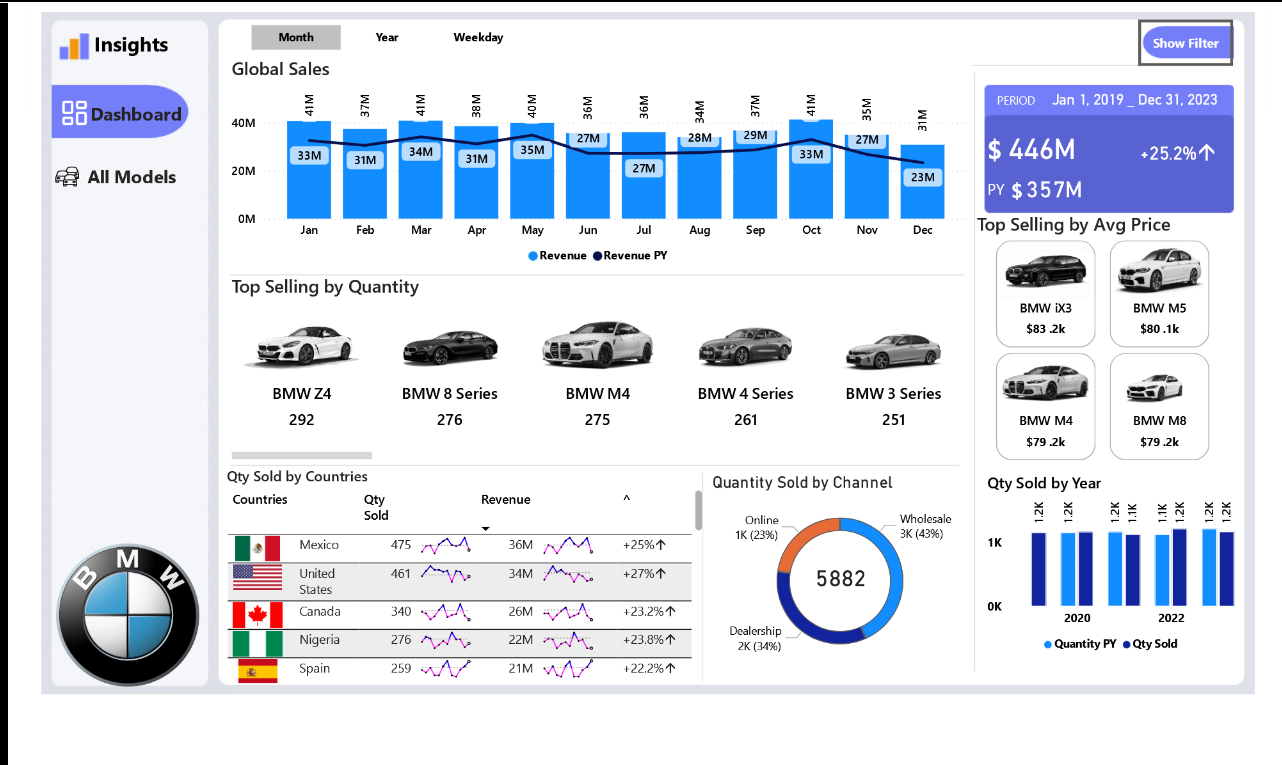

The dashboard page shown, as its layout file describes it:
{"tool":"powerbi","page":{"name":"Dashboard","canvas":[1300,834],"ordinal":0},"visuals":[{"type":"lineClusteredColumnComboChart","title":"Global Sales","fields":{"Category":["Calender.Month"],"Y":["All Measures.Revenue"],"Y2":["All Measures.Revenue PY"]},"box":[205.6,102.1,786.5,229.1],"z":0},{"type":"slicer","fields":{"Values":["preiod.preiod"]},"box":[205.6,62.1,336.7,40],"z":1000},{"type":"cardVisual","fields":{"Data":["All Measures.Revenue"]},"box":[1012.8,157.3,110.4,66.2],"z":2000},{"type":"card","fields":{"Values":["All Measures.Revenue PY"]},"box":[1041.8,216.6,74.5,49.7],"z":3000},{"type":"card","fields":{"Values":["All Measures.Revenue % with Arrow"]},"box":[1163.3,167,91.1,74.5],"z":4000},{"type":"card","fields":{"Values":["All Measures.Selected Period"]},"box":[1051.5,128.3,224.9,40],"z":5000},{"type":"textbox","box":[1012.8,133.9,77.3,34.5],"z":6000},{"type":"advancedSlicerVisual","title":"Top Selling by Quantity ","fields":{"Values":["dimModel.Model"]},"box":[205.6,331.2,786.5,202.8],"z":7000},{"type":"advancedSlicerVisual","title":"Top Selling by Avg Price","fields":{"Values":["dimModel.Model"]},"box":[992.1,266.3,274.6,267.7],"z":8000},{"type":"textbox","box":[1003.2,226.3,38.6,40],"z":9000},{"type":"clusteredColumnChart","title":"Qty Sold by Year","fields":{"Category":["Calender.Year"],"Y":["All Measures.Quantity PY","All Measures.Quantity"]},"box":[1002.6,540.8,273.7,200],"z":10000},{"type":"donutChart","title":"Quantity Sold by Channel","fields":{"Category":["dimChannel.Channel"],"Y":["All Measures.Quantity"]},"box":[713.4,540.9,278.7,209.7],"z":11000},{"type":"card","fields":{"Values":["All Measures.Quantity"]},"box":[772.7,594.7,160.1,113.2],"z":12000},{"type":"tableEx","title":"Qty Sold by Countries","fields":{"Values":["dimCountry.Countries with Flags URL.Flag","dimCountry.Country","All Measures.Quantity","All Measures.Quantity Sparkline","All Measures.Revenue","All Measures.Revenue Sparkline","All Measures.Growth % with Arrow"]},"box":[201.3,534.2,511.8,234.2],"z":13000},{"type":"image","box":[0,610.5,202,161],"z":14000},{"type":"textbox","box":[56.6,144.7,117.1,46.1],"z":15000},{"type":"image","box":[23.7,140.8,42.1,40.8],"z":16000},{"type":"actionButton","box":[15.8,140.8,148.7,50],"z":17000},{"type":"image","box":[15.8,210.5,42.1,35.5],"z":18000},{"type":"textbox","box":[53.9,210.5,122.4,36.8],"z":19000},{"type":"actionButton","box":[0,207.9,176.3,57.9],"z":20000},{"type":"actionButton","box":[315.8,102.6,43.4,42.1],"z":21000},{"type":"actionButton","box":[1167.1,63.2,100,48.7],"z":23000},{"type":"textbox","box":[60.5,68.4,115.8,46.1],"z":24000},{"type":"image","box":[19.7,68.4,50,43.4],"z":25000},{"type":"textbox","box":[1003.2,175.2,69,48.3],"z":25001},{"type":"textbox","box":[1028,222.2,51.1,40],"z":25002}]}

Visuals, with their boxes on the page's 1300x834 design canvas (x1, y1, x2, y2). These are canvas units, not pixel positions in the 1282x765 screenshot, which may show the page scaled, cropped or inside an application window:
"Global Sales" lineClusteredColumnComboChart: box=[206, 102, 992, 331]
slicer - preiod.preiod: box=[206, 62, 542, 102]
cardVisual - All Measures.Revenue: box=[1013, 157, 1123, 224]
card - All Measures.Revenue PY: box=[1042, 217, 1116, 266]
card - All Measures.Revenue % with Arrow: box=[1163, 167, 1254, 242]
card - All Measures.Selected Period: box=[1052, 128, 1276, 168]
textbox: box=[1013, 134, 1090, 168]
"Top Selling by Quantity " advancedSlicerVisual: box=[206, 331, 992, 534]
"Top Selling by Avg Price" advancedSlicerVisual: box=[992, 266, 1267, 534]
textbox: box=[1003, 226, 1042, 266]
"Qty Sold by Year" clusteredColumnChart: box=[1003, 541, 1276, 741]
"Quantity Sold by Channel" donutChart: box=[713, 541, 992, 751]
card - All Measures.Quantity: box=[773, 595, 933, 708]
"Qty Sold by Countries" tableEx: box=[201, 534, 713, 768]
image: box=[0, 610, 202, 772]
textbox: box=[57, 145, 174, 191]
image: box=[24, 141, 66, 182]
actionButton: box=[16, 141, 164, 191]
image: box=[16, 210, 58, 246]
textbox: box=[54, 210, 176, 247]
actionButton: box=[0, 208, 176, 266]
actionButton: box=[316, 103, 359, 145]
actionButton: box=[1167, 63, 1267, 112]
textbox: box=[60, 68, 176, 114]
image: box=[20, 68, 70, 112]
textbox: box=[1003, 175, 1072, 224]
textbox: box=[1028, 222, 1079, 262]
